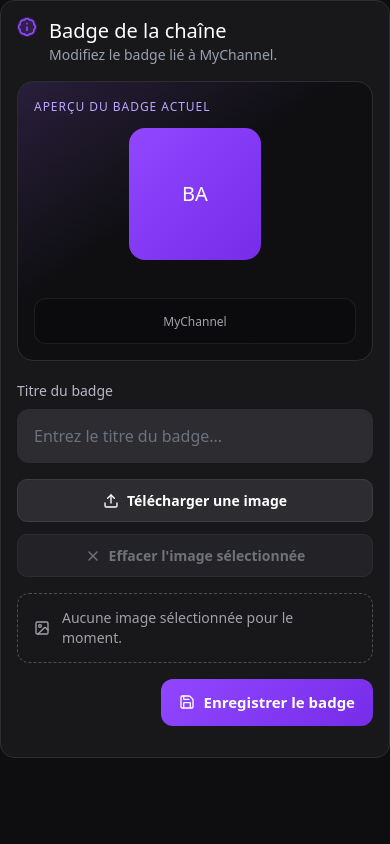
Test: ChannelBadgeManager › shows a validation error when saving with a blank title and no image
The width and height of the screenshot is (390, 844).
Click the button "Enregistrer le badge": click(267, 702) [162,679,373,726]
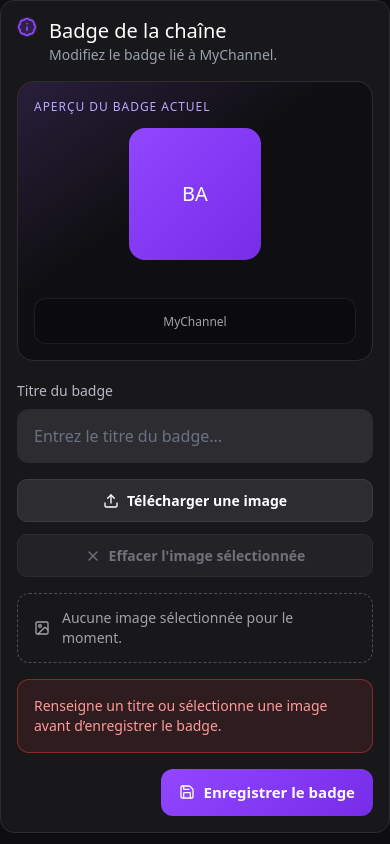
Result: the text "titre ou sélectionne une image" is shown at [34,696,328,735]
